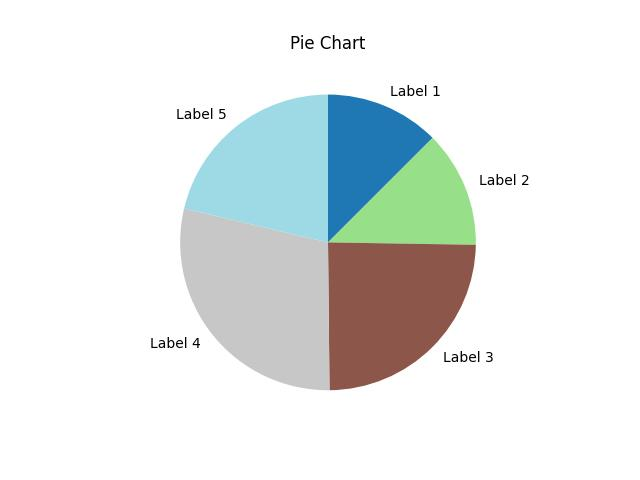sector: (180, 210, 331, 390), (328, 240, 478, 392), (185, 93, 328, 242), (329, 135, 477, 245), (327, 93, 433, 243)
